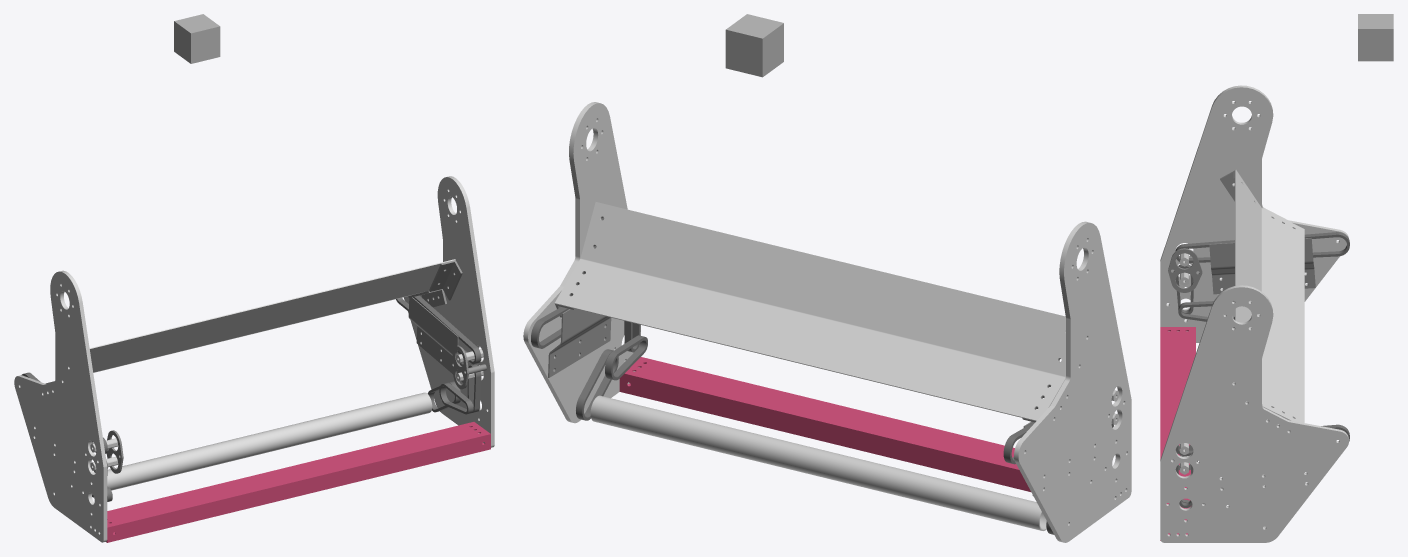
3 renders of one model, left to right at view 1: azimuth 30°, elevation 25°; view 2: azimuth 150°, elevation 25°; view 3: azimuth 270°, elevation 25°, orthographic. The views are drawn at different scales.
Parts seen in each view (by area): view 1: RIght plate, Intake Tube, Part 4, Left plate, Roller, Origin Cube, Part 18, Part 5, 105T 5M 9mm Wide Belt; view 2: Part 4, RIght plate, Intake Tube, Roller, Left plate, Origin Cube, Part 18, 45T 5M 9mm Wide Belt, 40T 5M 9mm Wide Belt; view 3: Left plate, RIght plate, Part 4, Intake Tube, Origin Cube, Part 26, 105T 5M 9mm Wide Belt, Part 21, 40T 5M 9mm Wide Belt.
Part boxes in pixels (x1,y1,x2,y2): RIght plate: (14,270,107,542); Intake Tube: (106,422,490,542); Part 4: (45,259,455,383); Left plate: (403,176,494,447); Roller: (107,392,432,490); Origin Cube: (174,14,220,63); Part 18: (408,297,463,382); Part 5: (429,260,462,300); 105T 5M 9mm Wide Belt: (396,295,481,364); Part 4: (554,202,1065,420); RIght plate: (1014,221,1131,542); Intake Tube: (619,357,1030,491); Roller: (590,395,1046,530); Left plate: (523,102,640,423); Origin Cube: (725,14,783,77); Part 18: (548,309,611,377); 45T 5M 9mm Wide Belt: (576,349,618,420); 40T 5M 9mm Wide Belt: (605,335,647,380); Left plate: (1160,285,1348,542); RIght plate: (1160,85,1348,342); Part 4: (1235,170,1304,422); Intake Tube: (1160,327,1195,540); Origin Cube: (1358,14,1393,61); Part 26: (1209,238,1315,294); 105T 5M 9mm Wide Belt: (1175,232,1349,263); Part 21: (1168,248,1202,292); 40T 5M 9mm Wide Belt: (1178,301,1234,321).
Size of the model in its own units: 0.6794 by 0.6604 by 0.3321.
